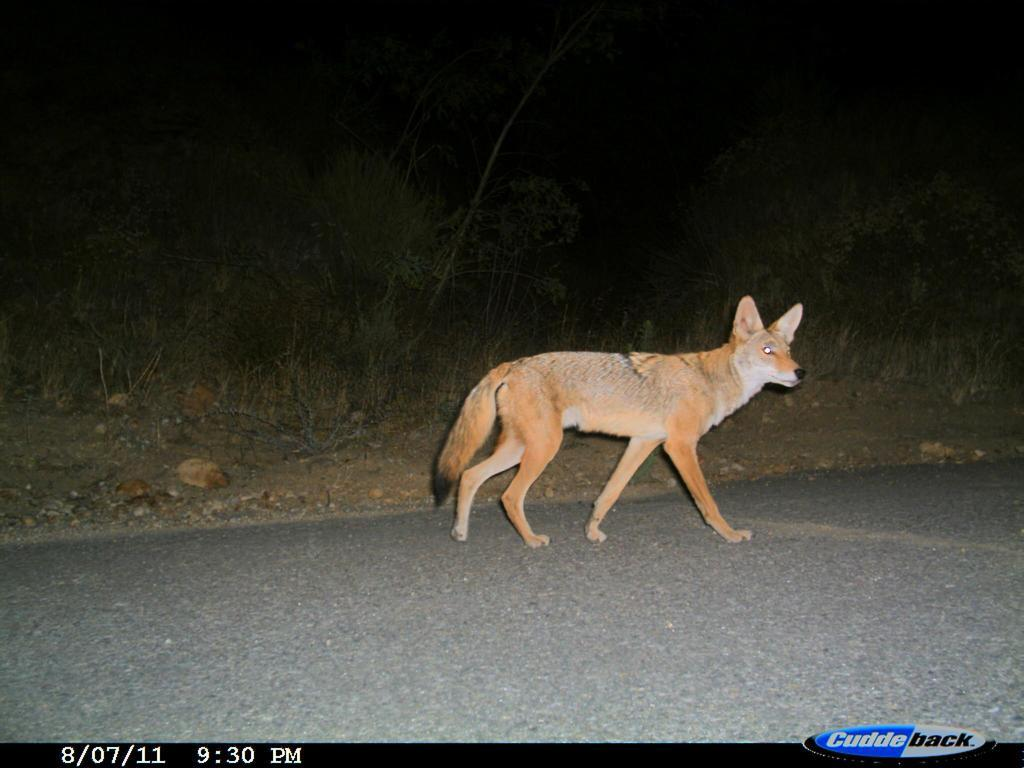coyote: (427, 287, 817, 566)
